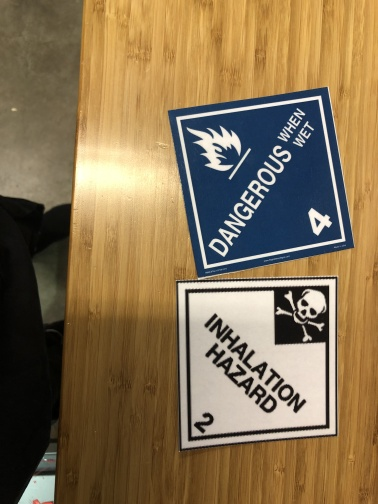DangerousWhenWet: (167, 87, 356, 278)
InhalationHazard: (177, 277, 339, 451)
